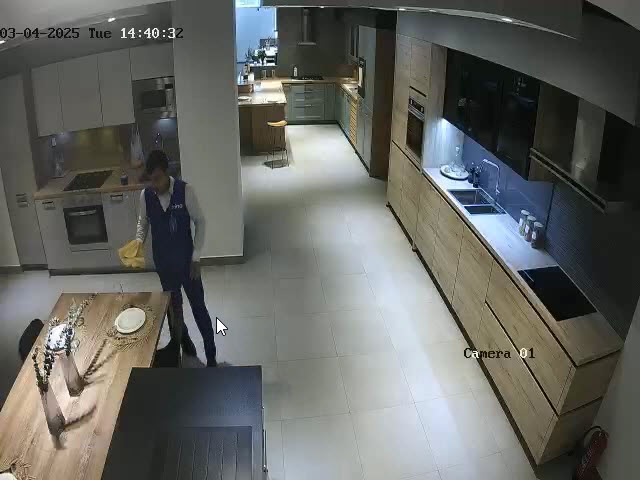employee: (122, 149, 218, 368)
